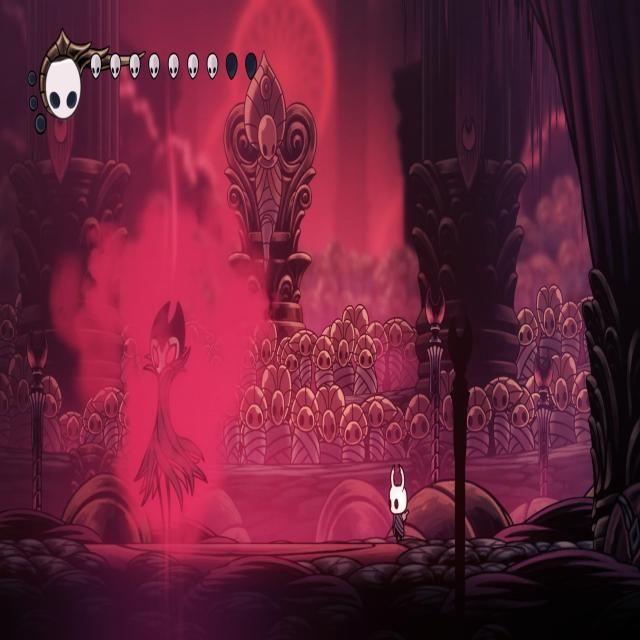Grimm: (130, 296, 210, 549)
Player: (385, 460, 412, 547)
